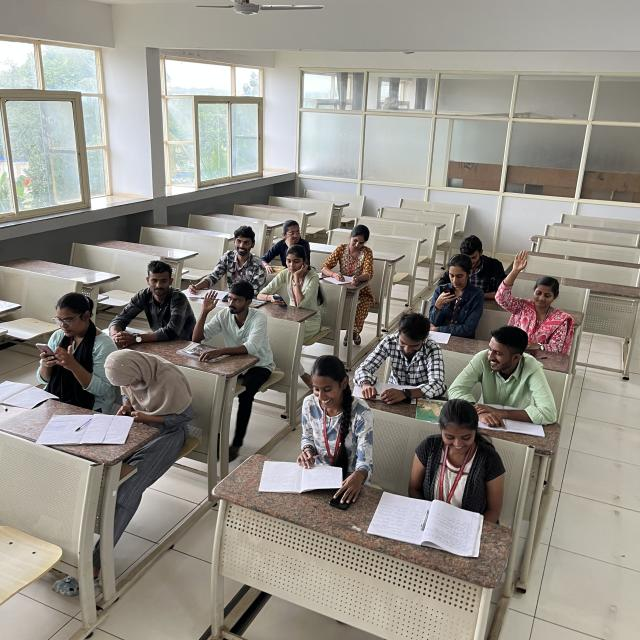Hand Rising: (494, 248, 576, 333), (194, 279, 260, 352)
Reading: (407, 398, 508, 510), (357, 314, 444, 392)
Using Phone: (32, 292, 112, 385), (103, 344, 185, 421), (430, 235, 505, 292), (266, 246, 321, 310), (431, 254, 482, 322)
Writing: (290, 356, 373, 474), (186, 226, 263, 296), (321, 224, 373, 283)
